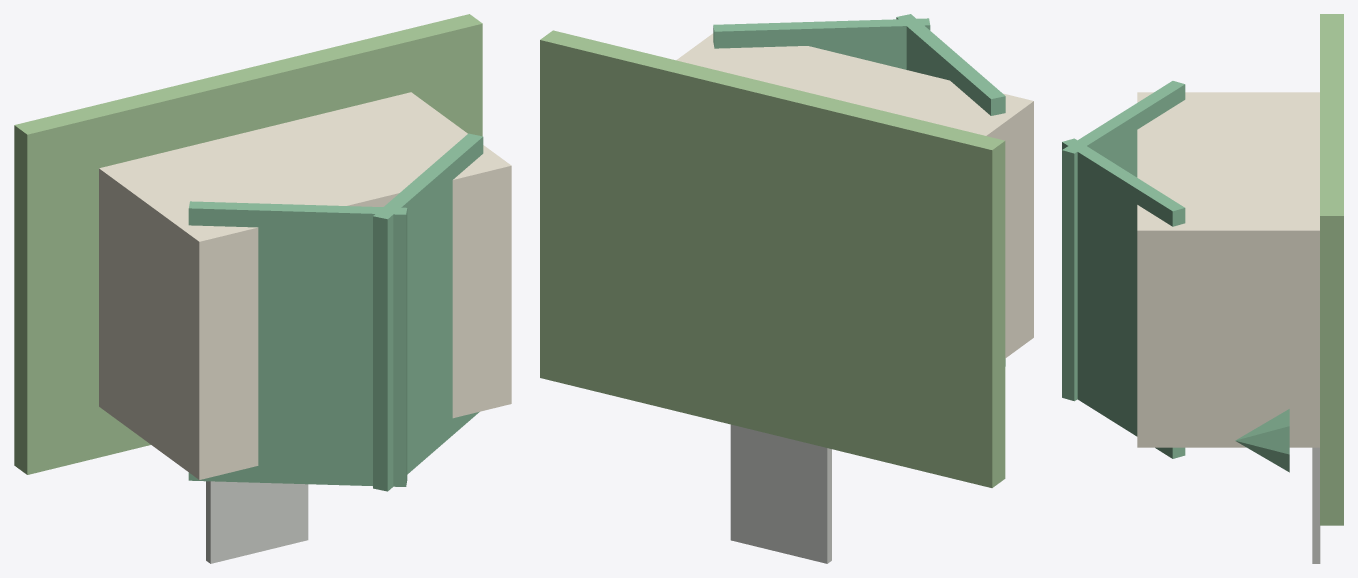
The model's file is health_house.glb.
The picture shows the model from 3 angles, left to right: view 1: azimuth 30°, elevation 25°; view 2: azimuth 150°, elevation 25°; view 3: azimuth 270°, elevation 25°; orthographic projection. The views are drawn at different scales.
Parts seen in each view (by area): view 1: clinic_body, base, roof_left, roof_right, path; view 2: base, clinic_body, path, roof_right, roof_left; view 3: clinic_body, roof_right, base, roof_left, shrub, path.
Boxes of the visible parts, x1,y1,x2,y2 form: clinic_body: (99, 92, 511, 479); base: (14, 14, 482, 474); roof_left: (188, 201, 407, 486); roof_right: (373, 133, 483, 491); path: (206, 481, 308, 563); base: (540, 30, 1005, 487); clinic_body: (676, 33, 1033, 358); path: (730, 424, 831, 563); roof_right: (713, 18, 930, 69); roof_left: (896, 14, 1005, 366); clinic_body: (1137, 92, 1319, 447); roof_right: (1062, 138, 1185, 458); base: (1320, 14, 1343, 525); roof_left: (1062, 81, 1185, 401); shrub: (1235, 409, 1289, 472); path: (1312, 447, 1320, 563).
Size of the model in its own units: 7 by 6.9 by 4.13.
